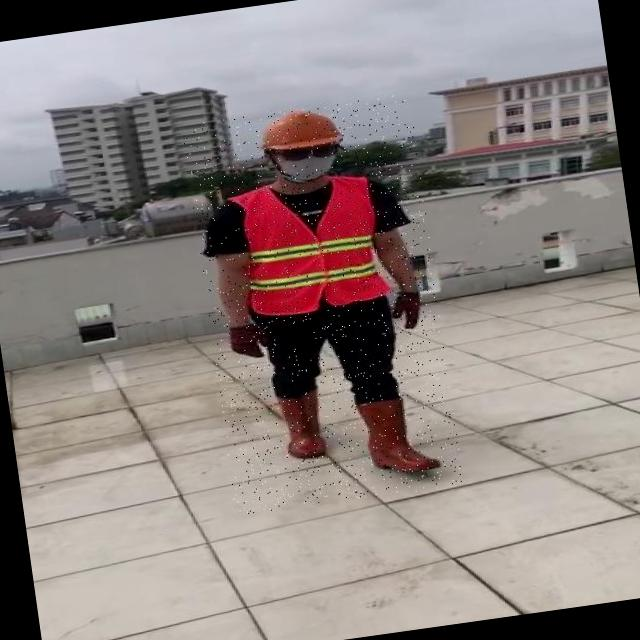boots: (353, 392, 440, 479), (271, 388, 330, 464)
gloves: (225, 318, 272, 361), (391, 286, 428, 332)
helmet: (248, 102, 352, 162)
vest: (234, 173, 390, 320)
